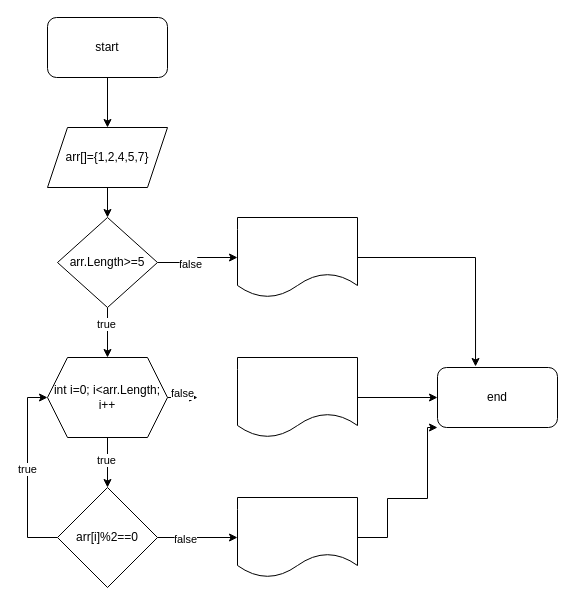
Some shapes in this 575 by 605 pixel diagram are drawn without their labels. The shapes that lost their labels are listed below. From the top down, each one's centre as x and y in pixels, then its label:
At pixel 297 257: "CW(Arreyin uzunlugu 5den azdir)".
At pixel 297 397: "CW(Hamisi cutdur)".
At pixel 297 537: "CW(Cut deyil)".
